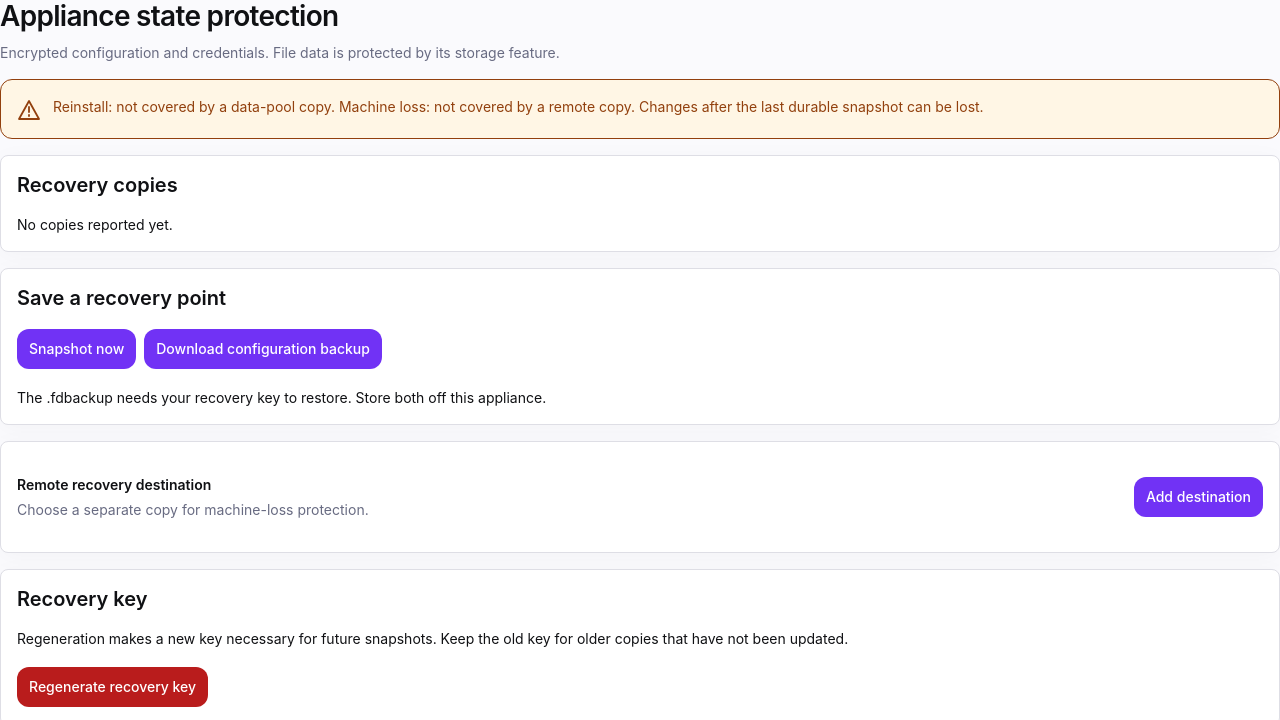
Scenario: recovery summary keeps destination inputs behind one deliberate dialog
Expected: the text "No copies reported yet." is shown, [17,216,173,233]
Expected: the field labelled "Dedicated empty prefix" is not shown
Click the button "Add destination" at (1198, 497), box [1134,475,1263,519]
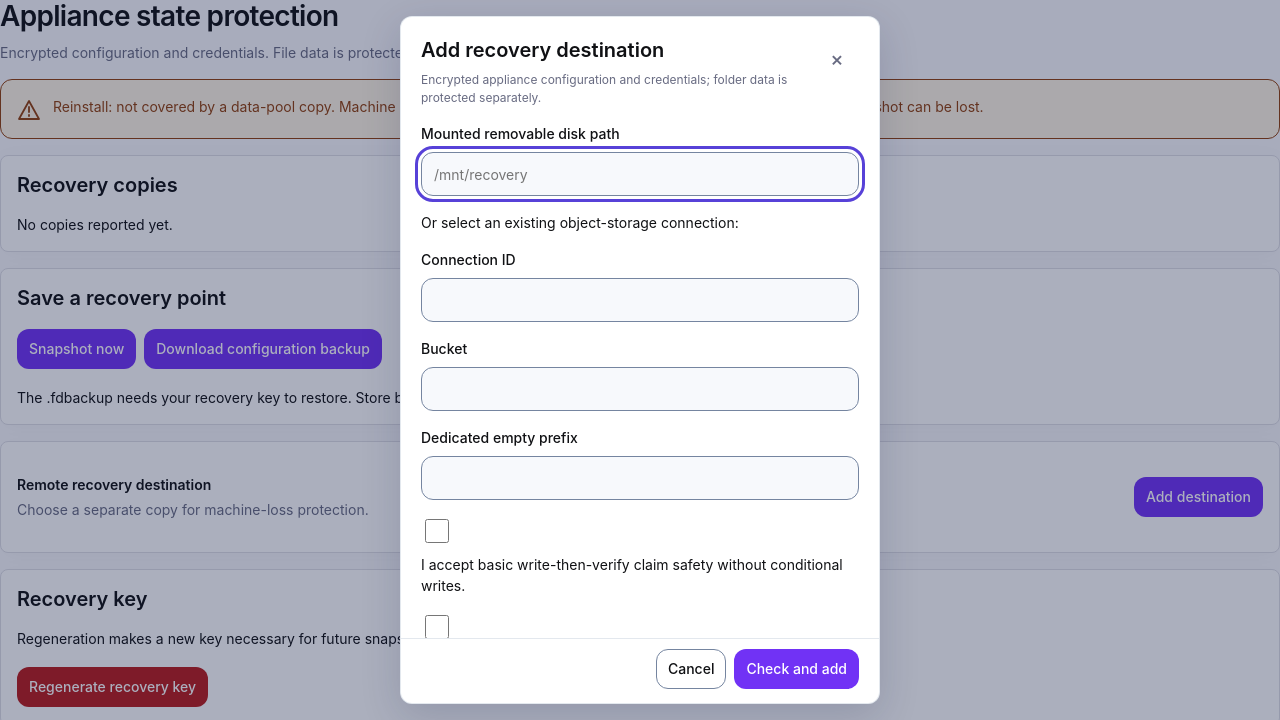
Expected: the number of dialogs is 1, [400,16,880,704]
Expected: the field labelled "Dedicated empty prefix" is shown, [421,456,859,500]
Expected: the button "Check and add" is shown, [734,647,859,691]
